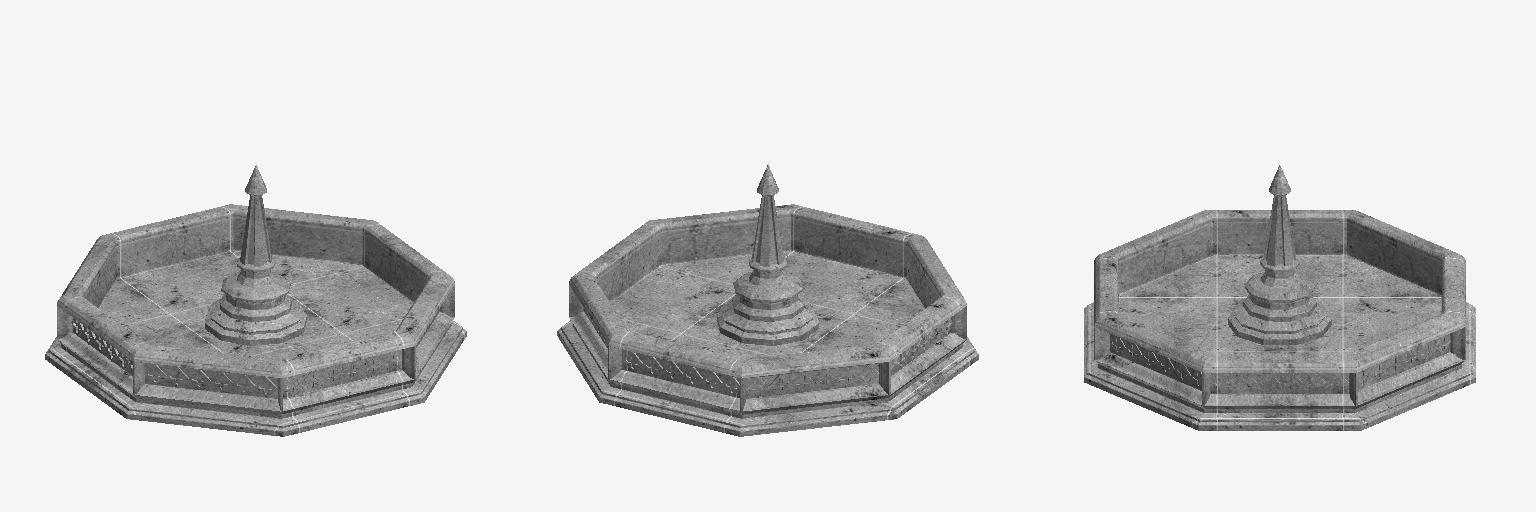
3 renders of one model, left to right at view 1: azimuth 30°, elevation 25°; view 2: azimuth 150°, elevation 25°; view 3: azimuth 270°, elevation 25°, orthographic.
Parts seen in each view (by area): view 1: default; view 2: default; view 3: default.
Part boxes in pixels (x1,y1,x2,y2): default: (45,165,466,436); default: (557,165,978,436); default: (1084,165,1475,430).
Size of the model in its own units: 3.1 by 1.6 by 3.1.
Materials: 1 (1 with a texture image).